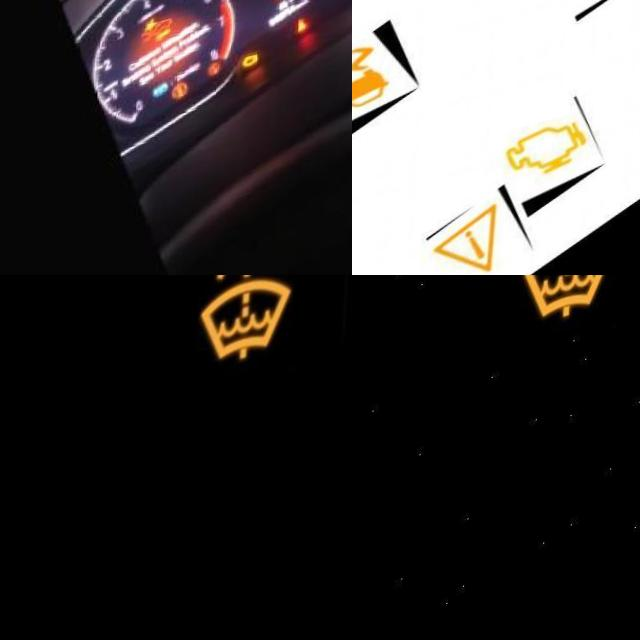Washer Fluid: (522, 275, 617, 346)
